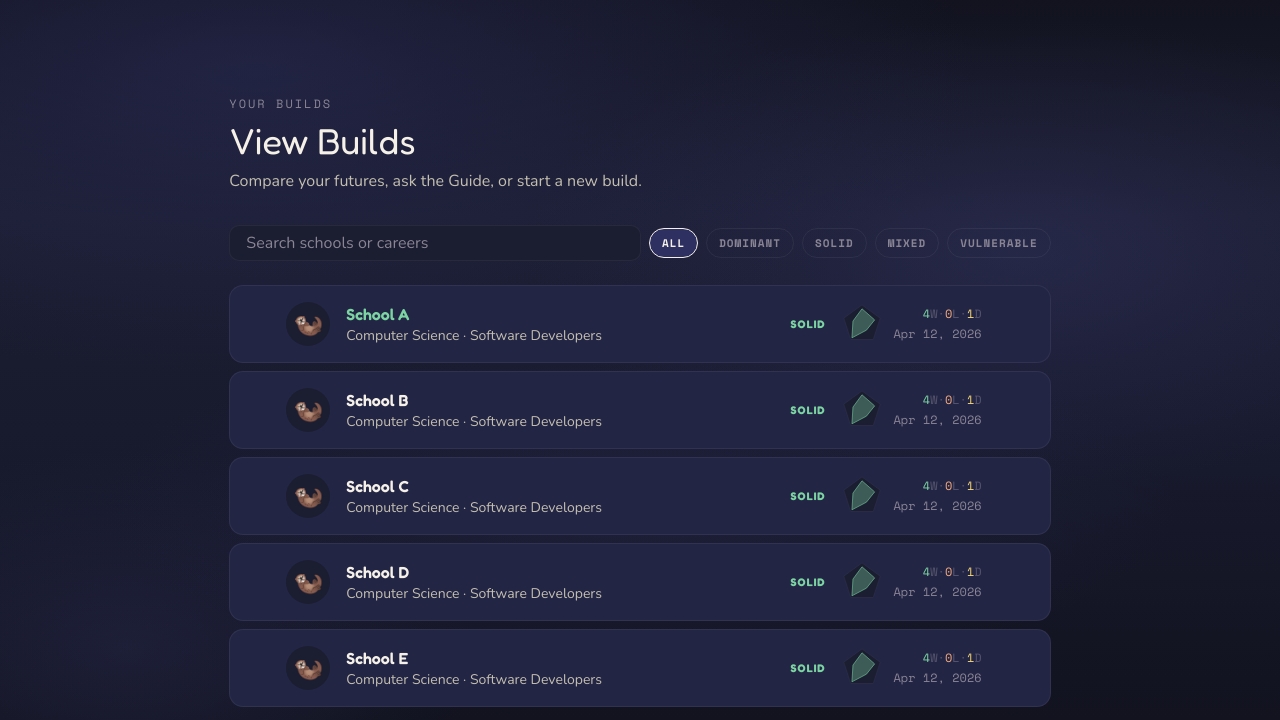
Test case: MenuScreen › deselecting a build in select mode allows re-selecting another (P1)
The image size is (1280, 720).
// Select 4.
Click the button with test id "card-build-build-a" at (308, 324), box [229,285,1051,363]
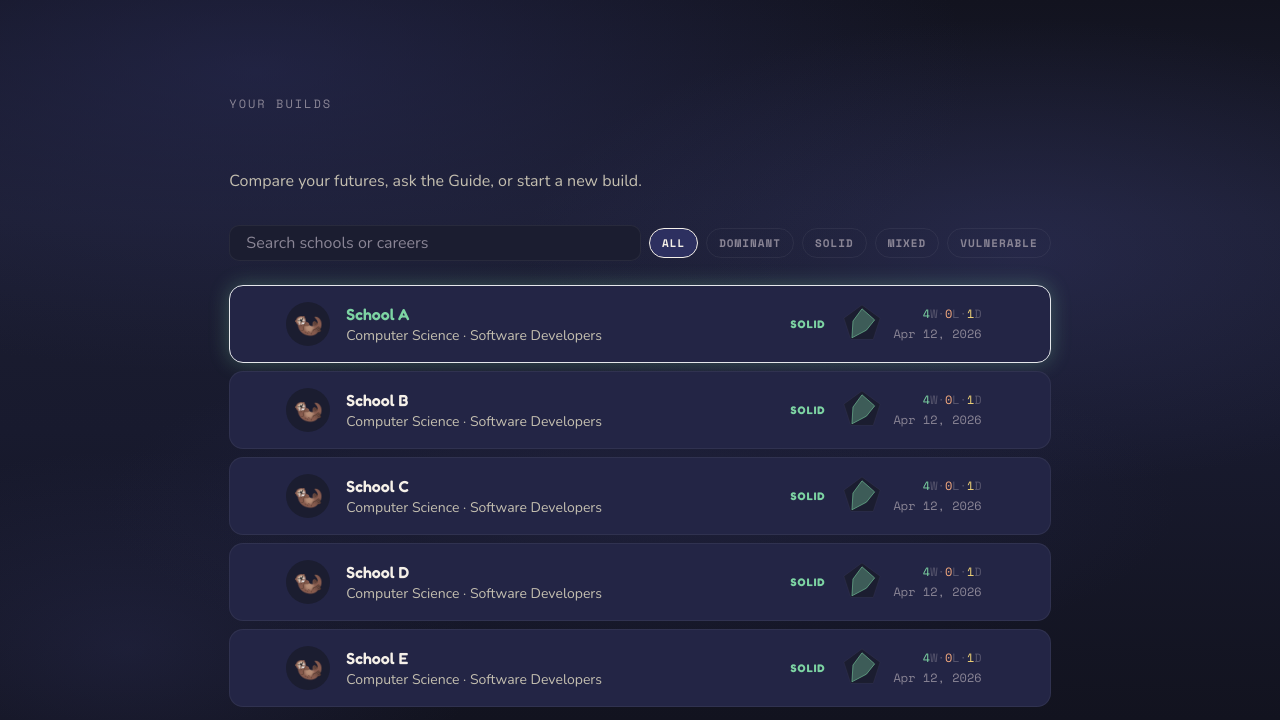
Click the button with test id "card-build-build-b" at (308, 410), box [229,371,1051,449]
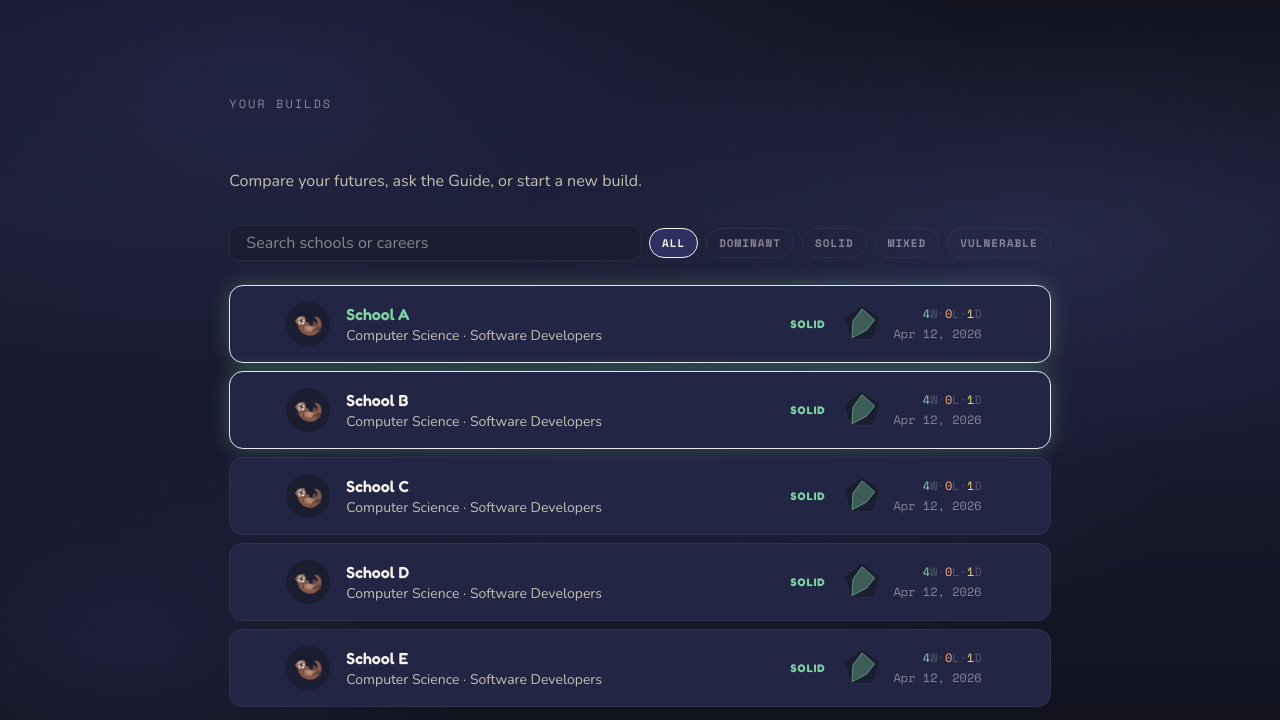
Click the button with test id "card-build-build-c" at (308, 496), box [229,457,1051,535]
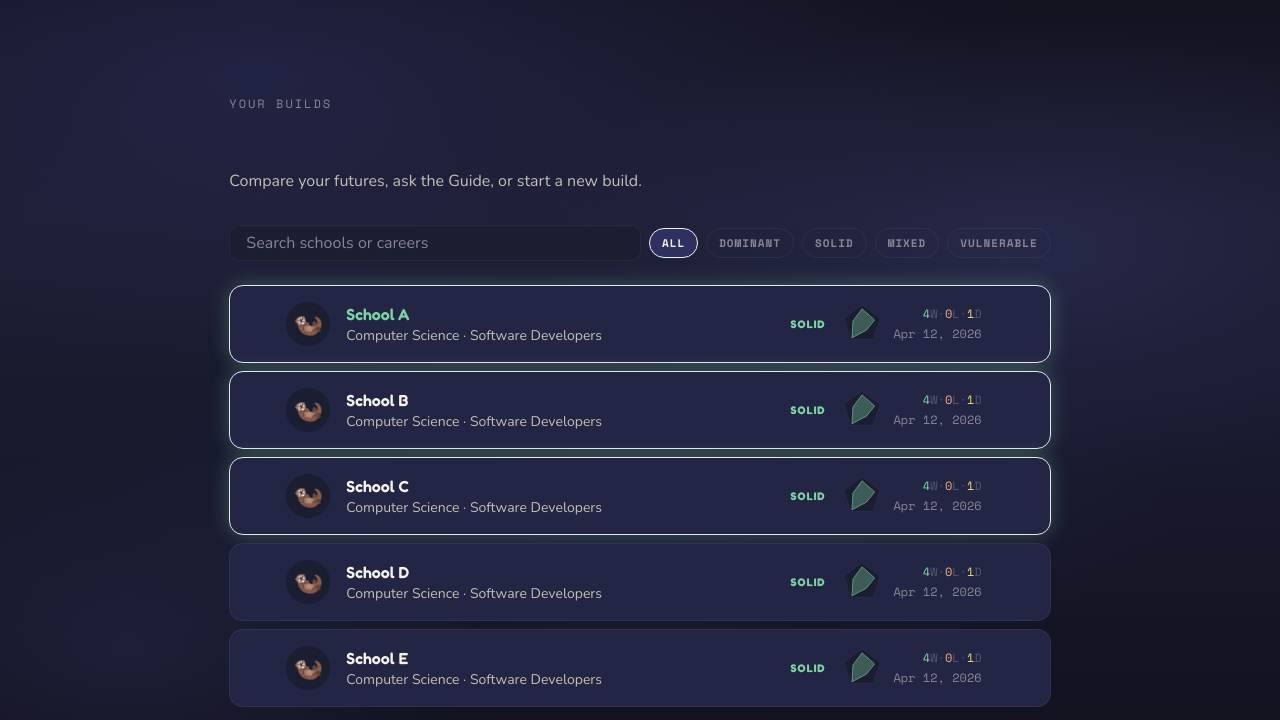
Click the button with test id "card-build-build-d" at (308, 582), box [229,543,1051,621]
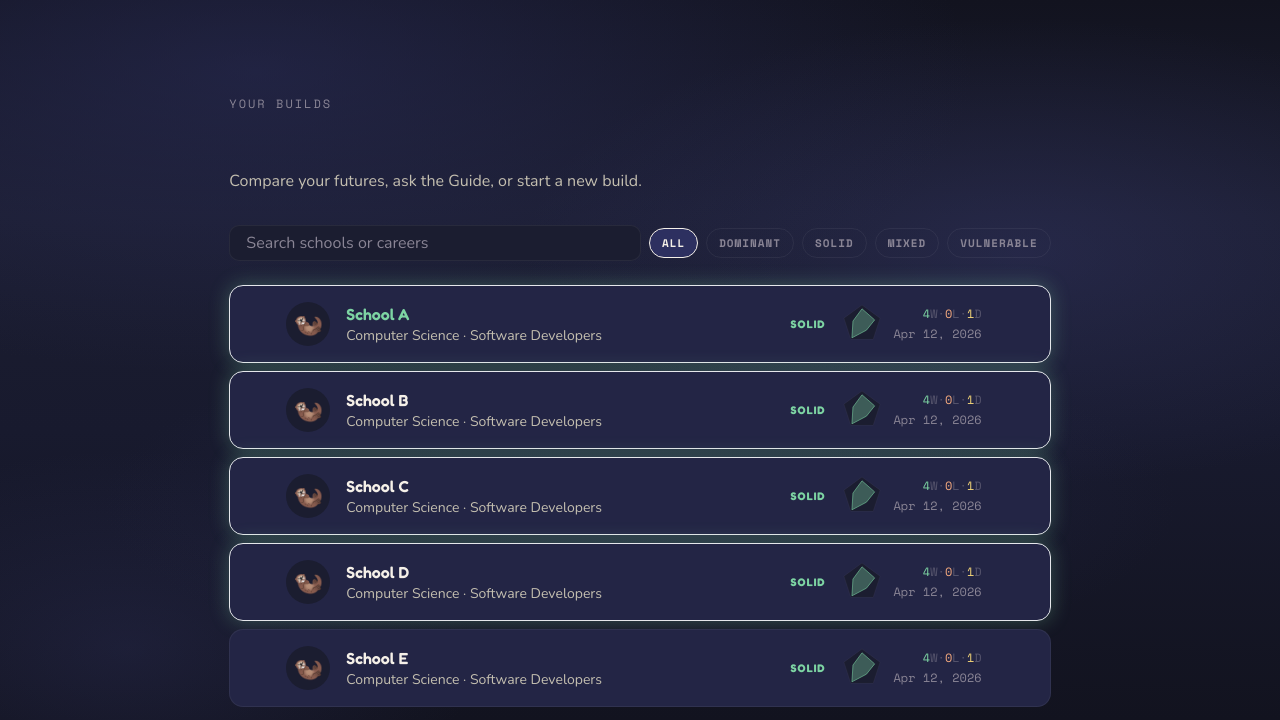
// Deselect build-b (toggle off).
Click the button with test id "card-build-build-b" at (308, 410), box [229,371,1051,449]
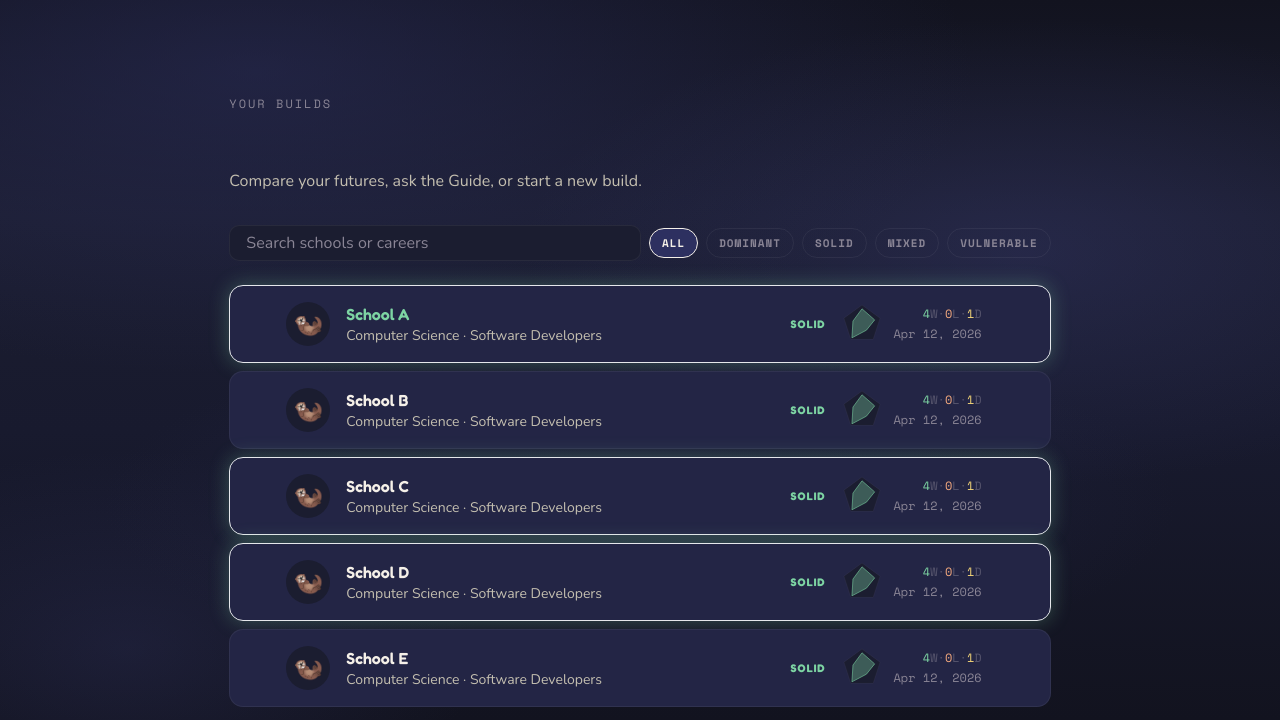
// Now build-e can be selected.
Click the button with test id "card-build-build-e" at (308, 668), box [229,629,1051,707]
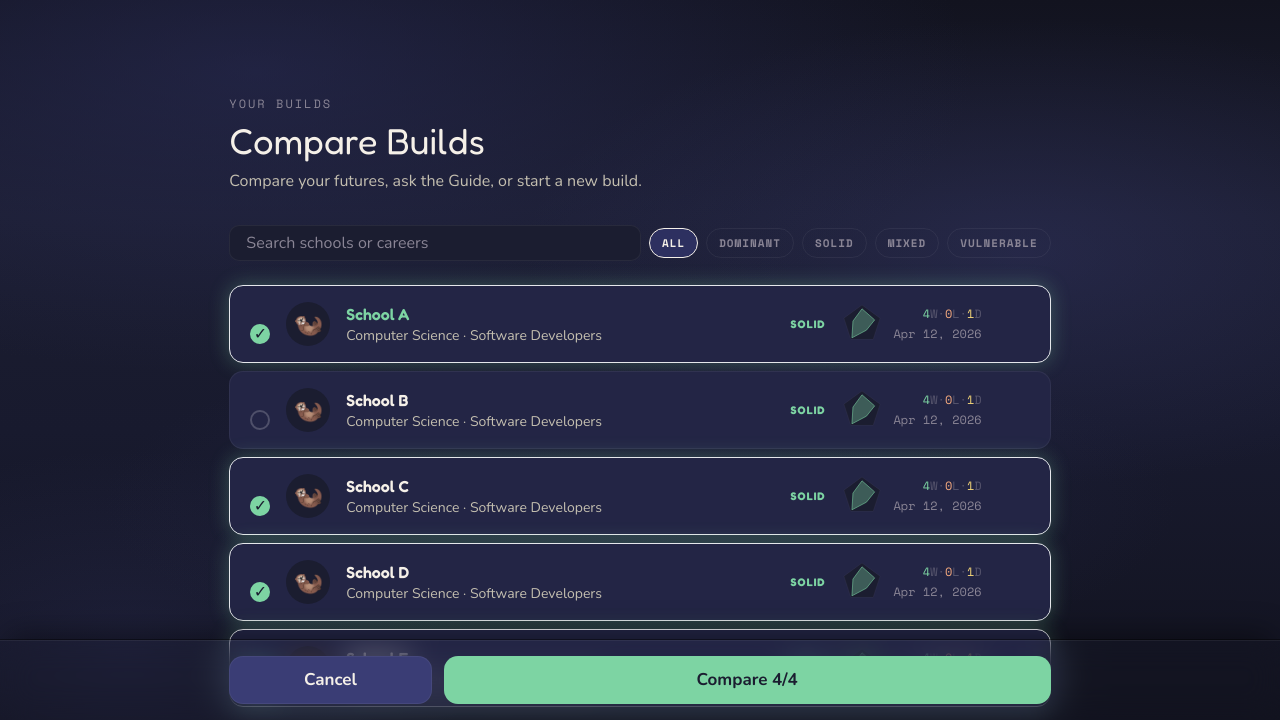
Expected: the button with test id "btn-compare" reads "Compare 4/4", [444,656,1051,704]
